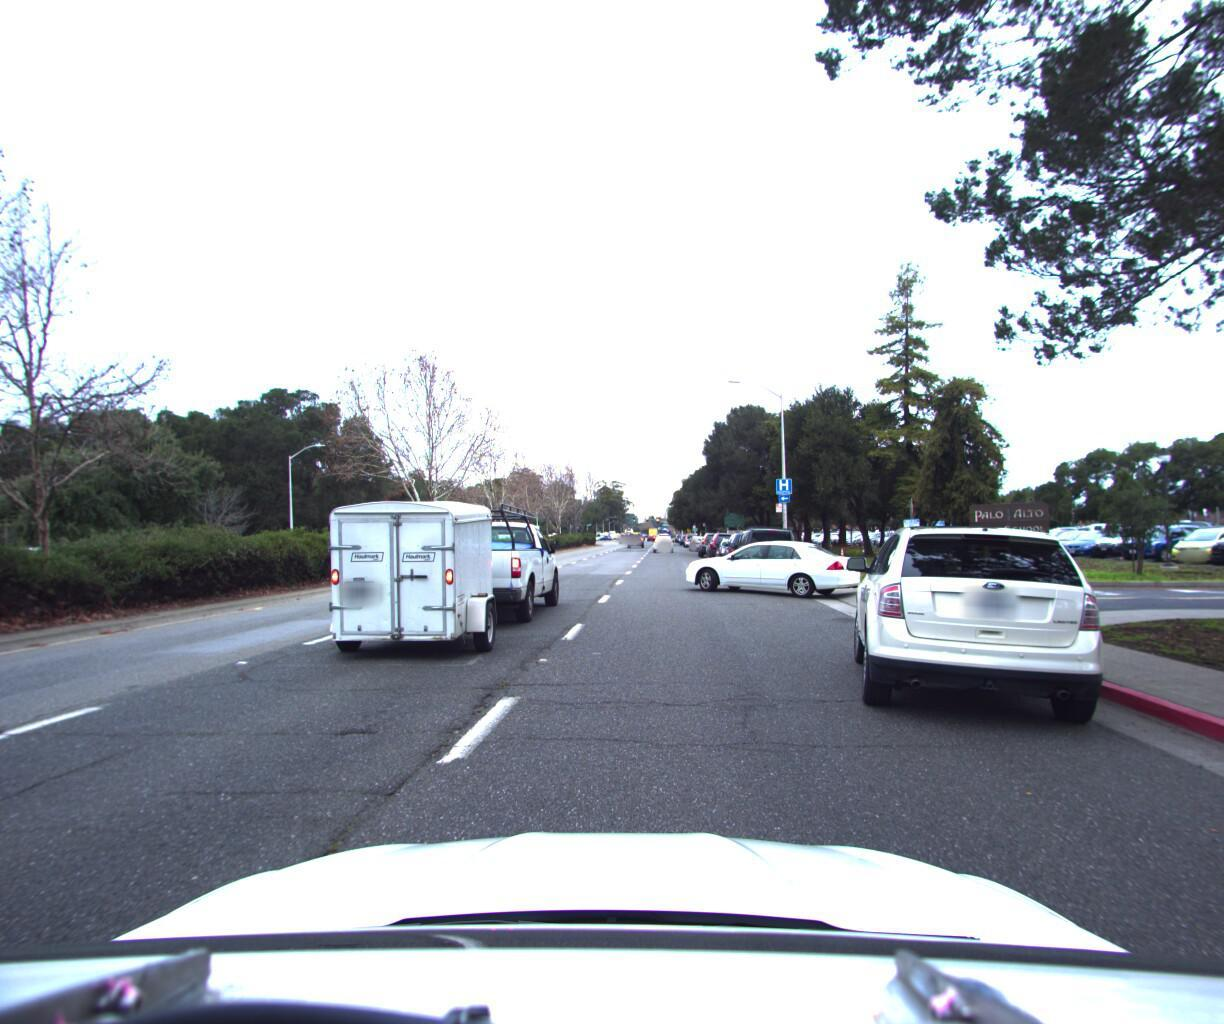car: (844, 513, 1140, 736), (309, 488, 569, 670), (674, 528, 859, 592), (725, 518, 802, 583), (717, 523, 772, 570), (703, 524, 743, 562), (694, 524, 725, 553), (653, 529, 675, 548)
